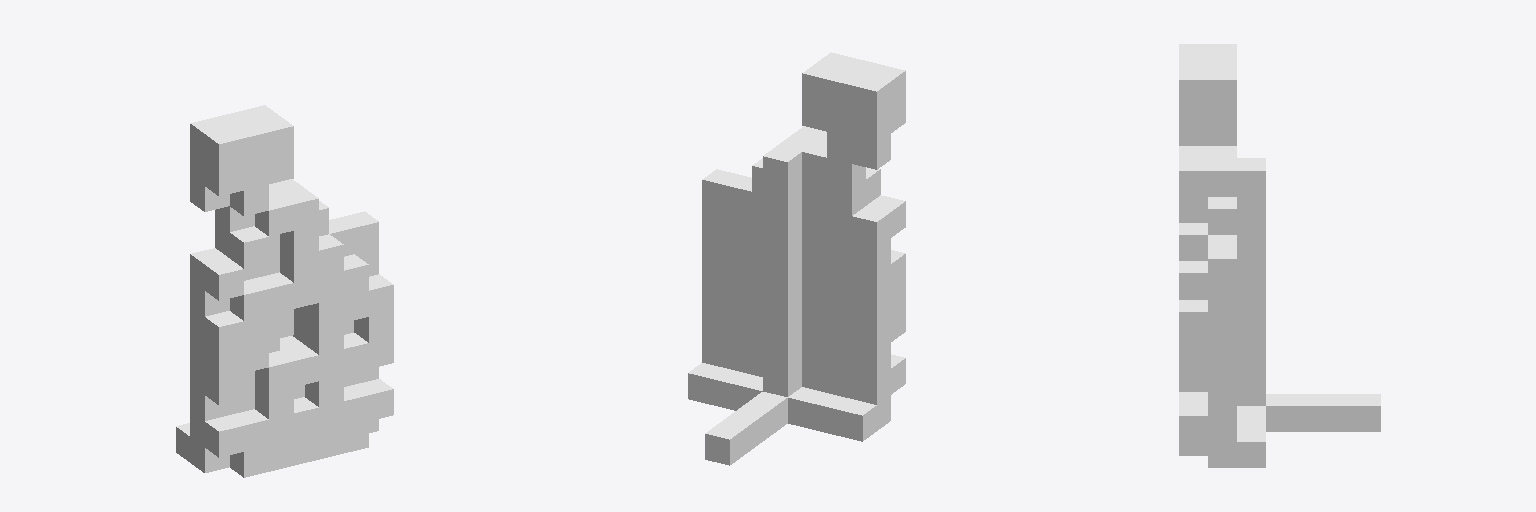
Rendered from Building3_Destroyed1-3.obj.
3 renders of one model, left to right at view 1: azimuth 30°, elevation 25°; view 2: azimuth 150°, elevation 25°; view 3: azimuth 270°, elevation 25°, orthographic.
Visible parts, largest first — view 1: object 1; view 2: object 1; view 3: object 1.
Boxes of the visible parts, x1,y1,x2,y2 form: object 1: [176, 105, 393, 477]; object 1: [688, 52, 905, 465]; object 1: [1179, 44, 1380, 467].
Bounding box in the file's own units: 0.7 × 1.3 × 0.7.